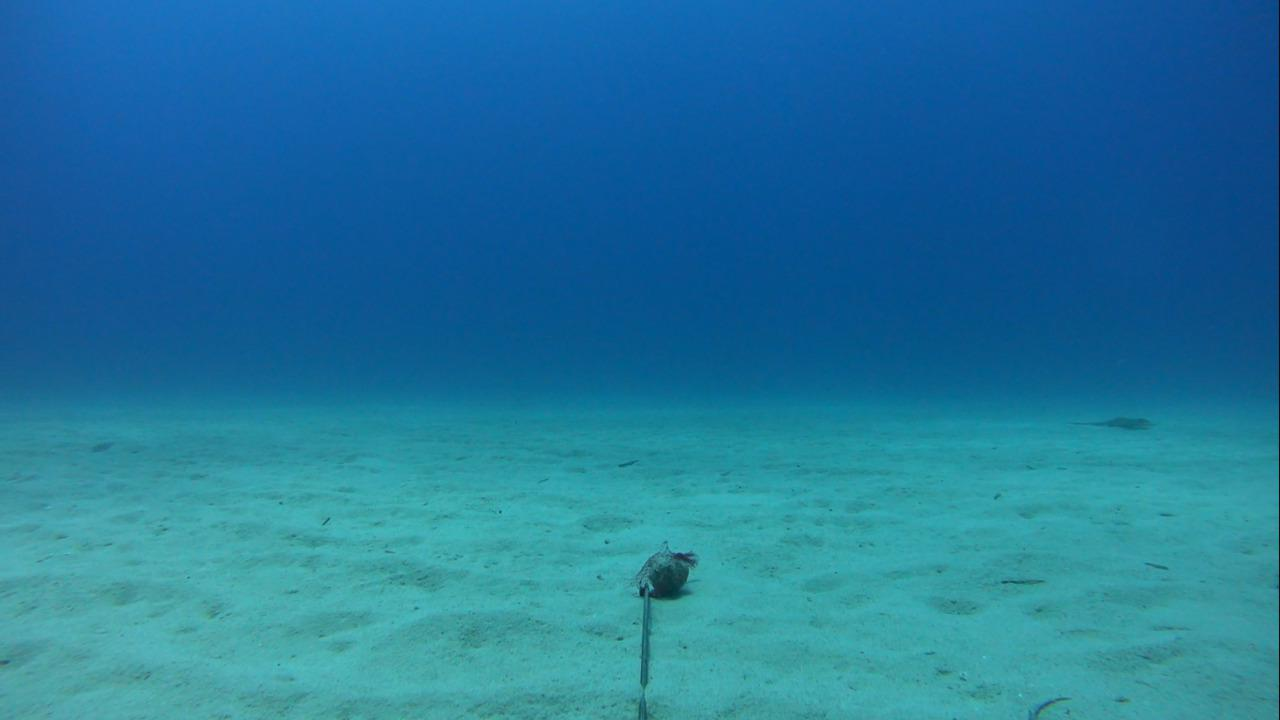myliobatis: (1053, 411, 1157, 434)
